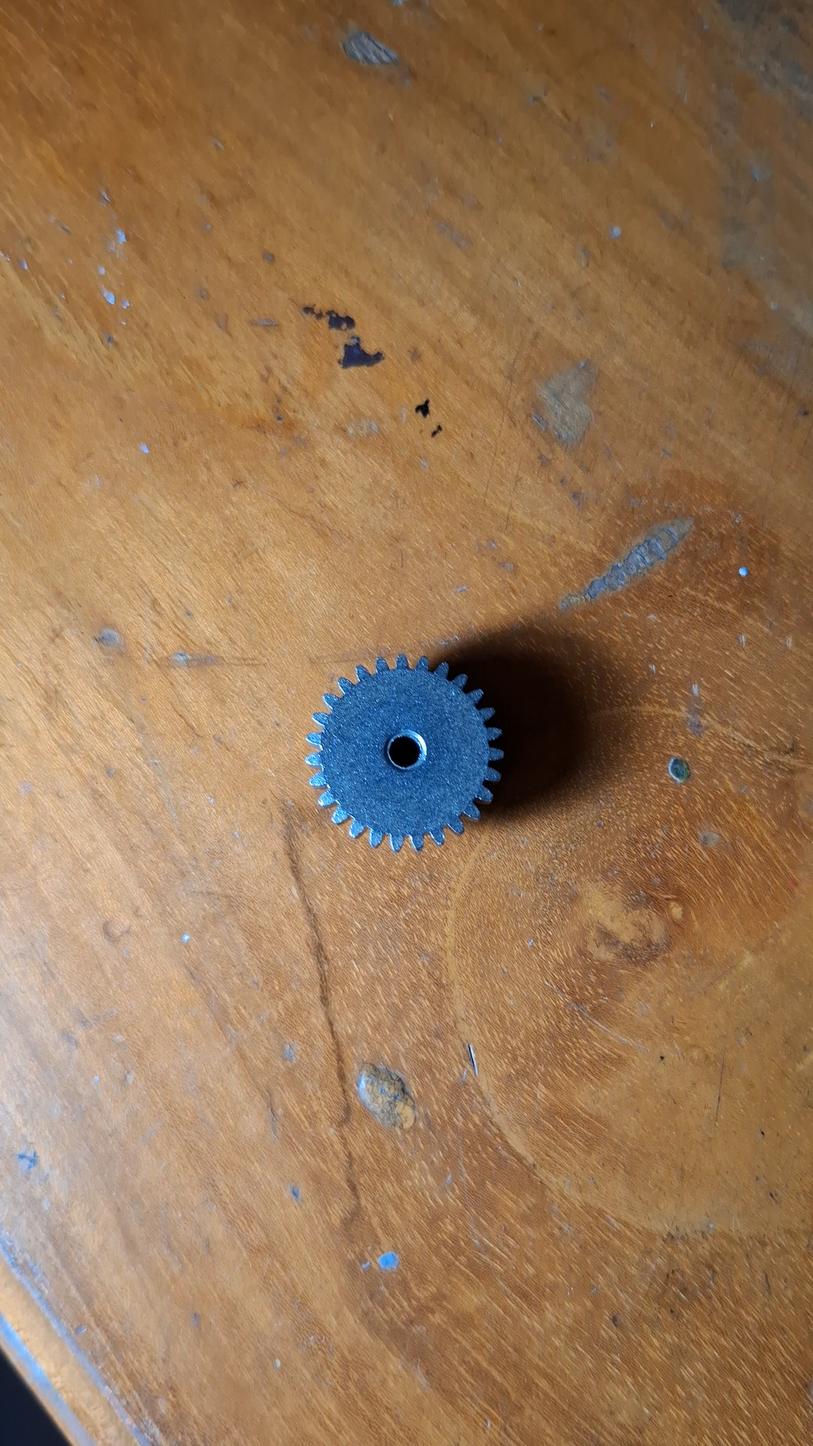spur gear: (306, 654, 502, 850)
